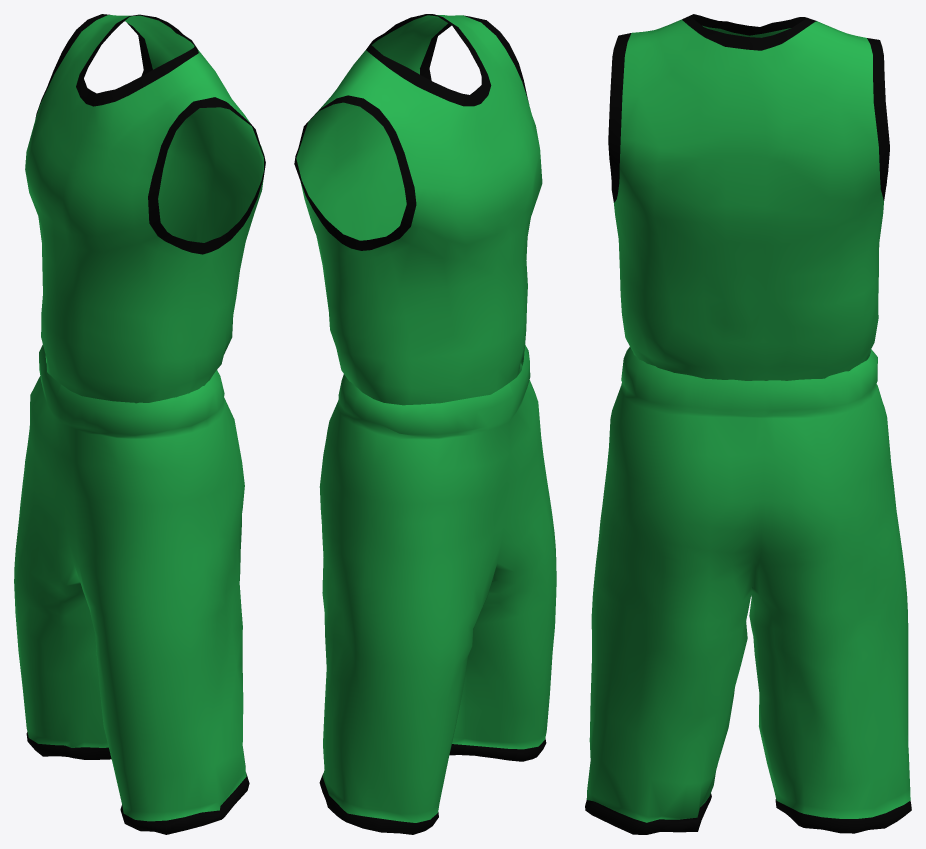
The model's file is Normal_Neck.gltf.
The picture shows the model from 3 angles, left to right: view 1: azimuth 30°, elevation 25°; view 2: azimuth 150°, elevation 25°; view 3: azimuth 270°, elevation 25°; orthographic projection. The views are drawn at different scales.
Visible parts, largest first — view 1: Normal_Neck; view 2: Normal_Neck; view 3: Normal_Neck.
Boxes of the visible parts, x1=… form: Normal_Neck: x1=14, y1=14, x2=265, y2=834; Normal_Neck: x1=294, y1=14, x2=556, y2=834; Normal_Neck: x1=585, y1=14, x2=911, y2=834.
Bounding box in the file's own units: 1.09 × 4.49 × 1.64.
Materials: 5 (5 with a texture image).
